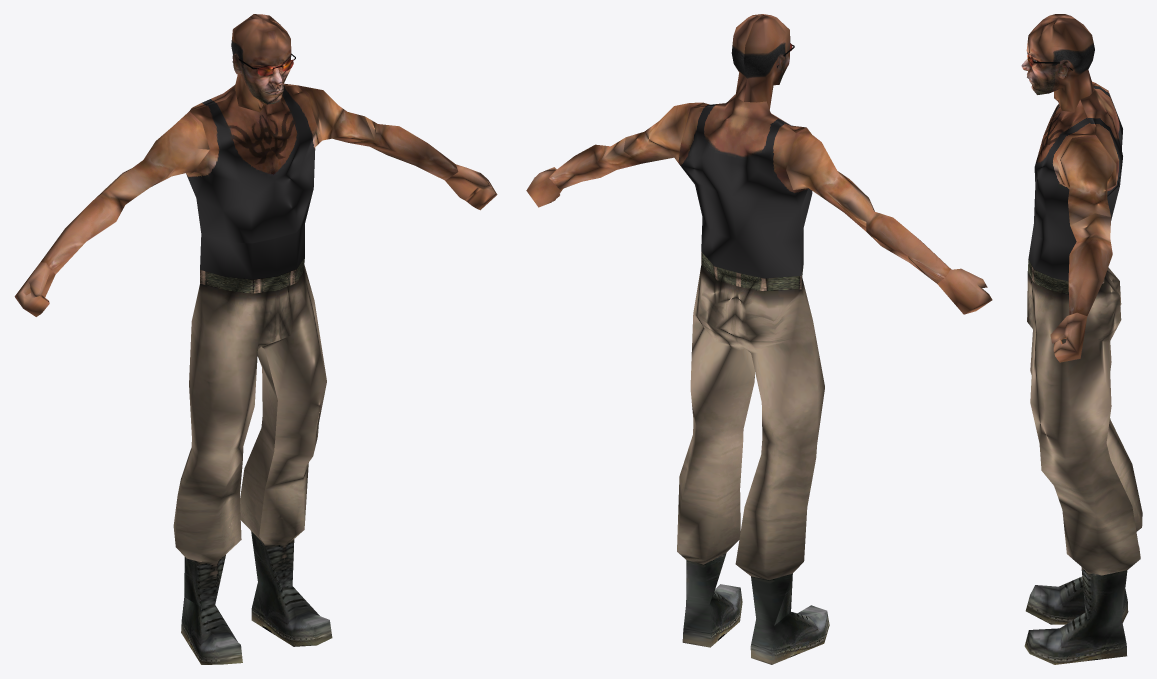
The model's file is eTier1b.glb.
3 renders of one model, left to right at view 1: azimuth 30°, elevation 25°; view 2: azimuth 150°, elevation 25°; view 3: azimuth 270°, elevation 25°, orthographic. The views are drawn at different scales.
Parts seen in each view (by area): view 1: _eTier1b; view 2: _eTier1b; view 3: _eTier1b.
Part boxes in pixels (x1=…): _eTier1b: x1=14, y1=14, x2=497, y2=664; _eTier1b: x1=526, y1=14, x2=992, y2=664; _eTier1b: x1=1021, y1=14, x2=1142, y2=664.
Size of the model in its own units: 1.57 by 2 by 0.3557.
1 material, 1 textured.
